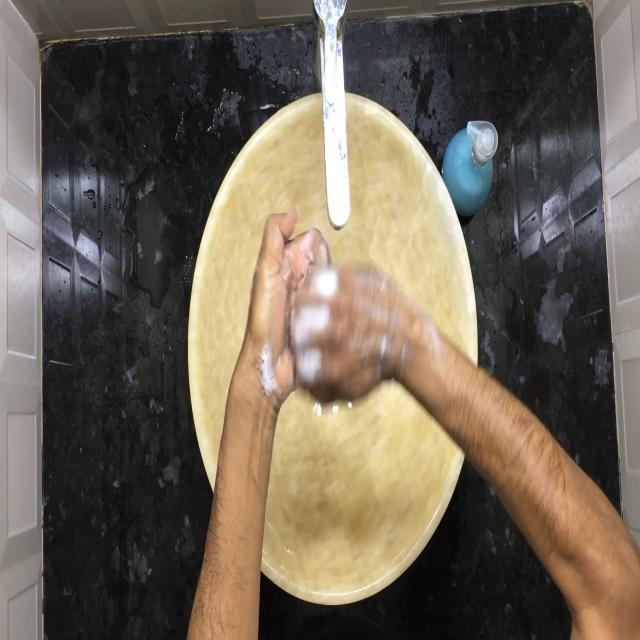step_4: (247, 194, 408, 420)
